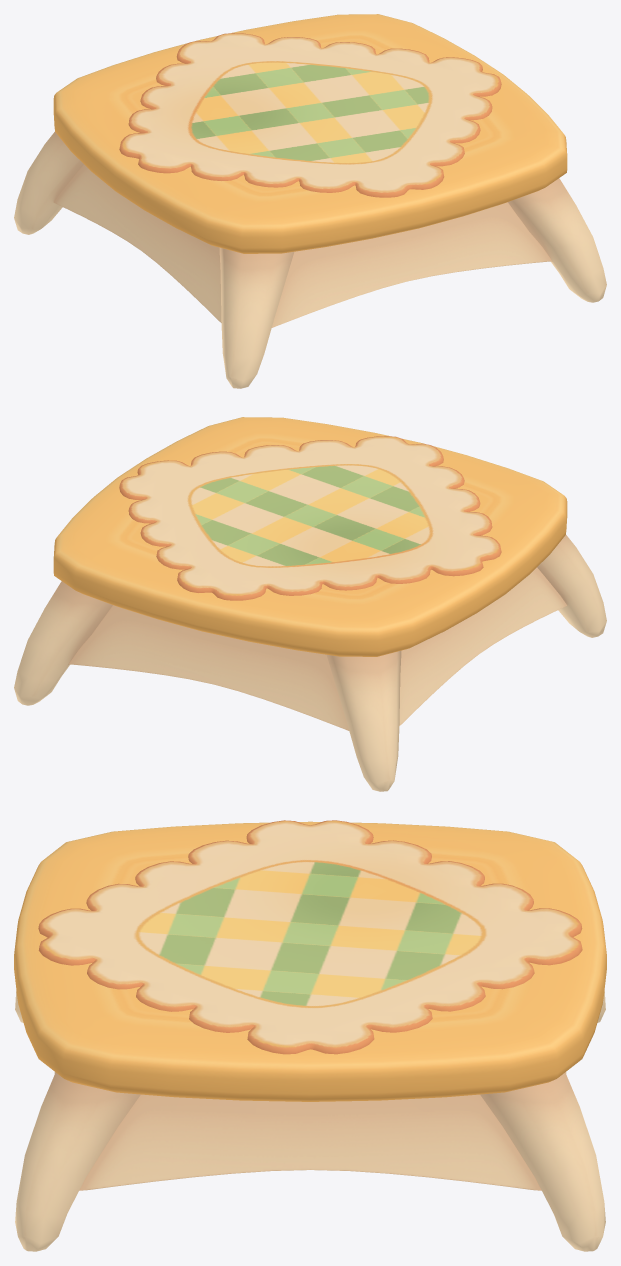
File: stylized table.glb
The picture shows the model from 3 angles, top to bottom: view 1: azimuth 30°, elevation 25°; view 2: azimuth 150°, elevation 25°; view 3: azimuth 270°, elevation 25°; orthographic projection. The views are drawn at different scales.
Visible parts, largest first — view 1: Plane.002, Plane, Cube.007, Cube; view 2: Plane.002, Plane, Cube.007, Cube; view 3: Plane.002, Plane, Cube.007, Cube.
Boxes of the visible parts, left/top/right/bottom form: Plane.002: left=119, top=33, right=501, bottom=197; Plane: left=53, top=14, right=567, bottom=253; Cube.007: left=54, top=164, right=551, bottom=327; Cube: left=14, top=132, right=606, bottom=388; Plane.002: left=119, top=436, right=501, bottom=600; Plane: left=53, top=417, right=567, bottom=656; Cube.007: left=69, top=567, right=566, bottom=730; Cube: left=14, top=535, right=606, bottom=791; Plane.002: left=38, top=820, right=582, bottom=1054; Plane: left=14, top=821, right=606, bottom=1101; Cube.007: left=54, top=1072, right=566, bottom=1190; Cube: left=15, top=991, right=605, bottom=1251.
Size of the model in its own units: 0.8718 by 0.3273 by 0.8718.
1 material, 1 textured.
